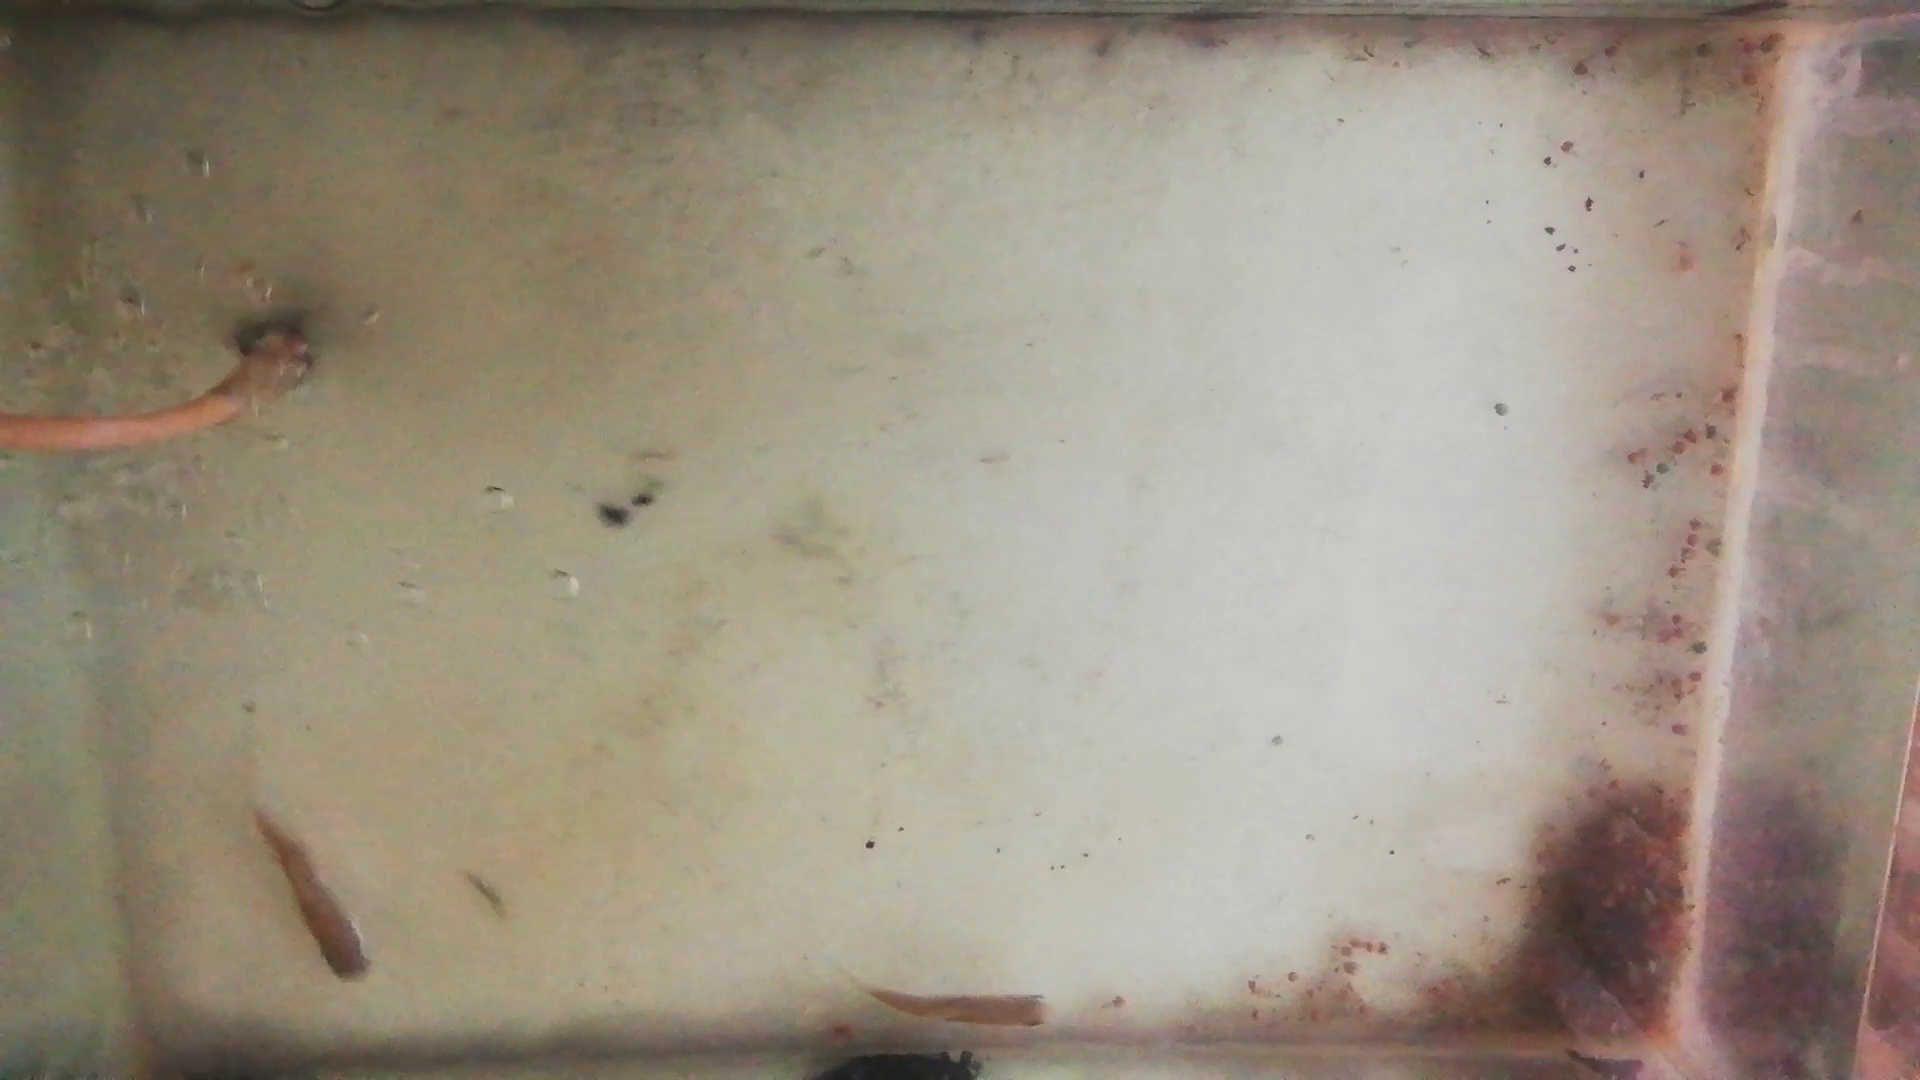fish: (251, 807, 368, 977), (866, 988, 1060, 1033)
